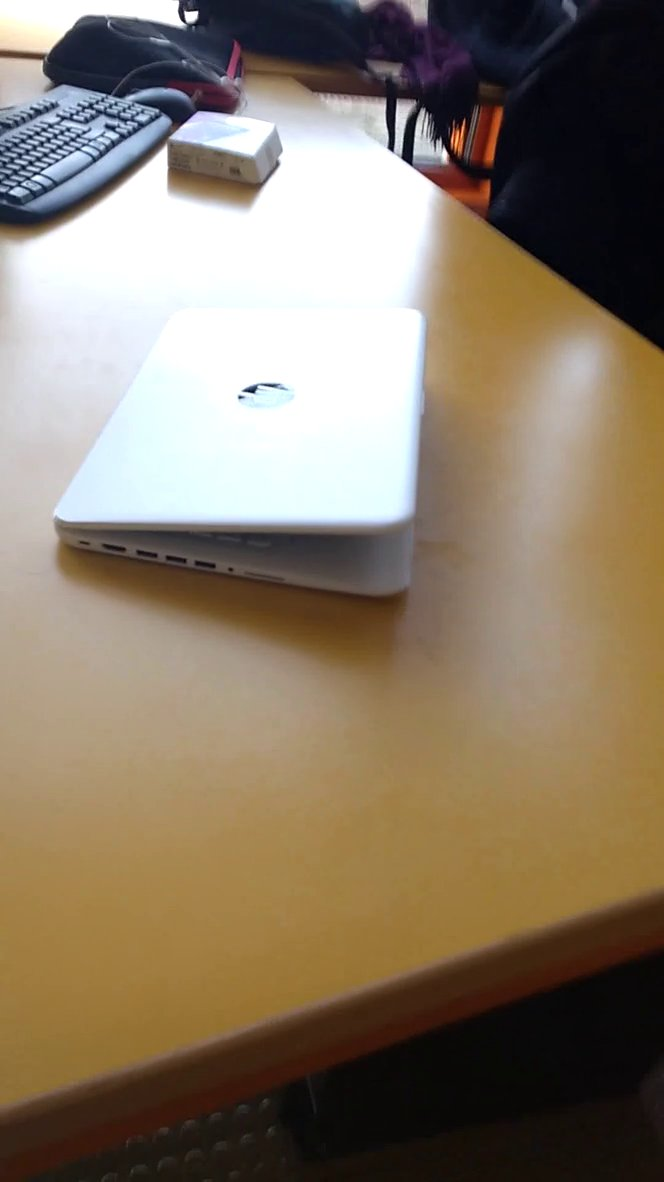laptop: (40, 286, 486, 619)
